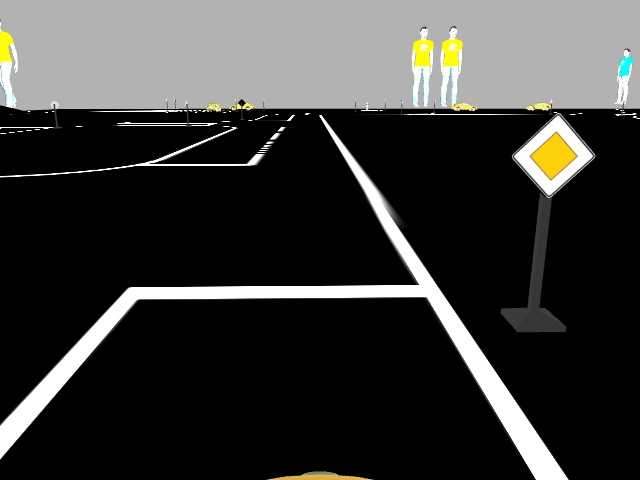Priority: (514, 113, 587, 192)
